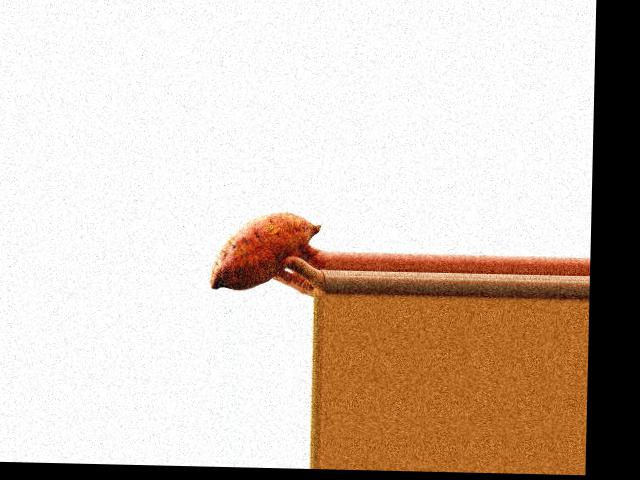sweet_potato: (207, 203, 317, 295)
